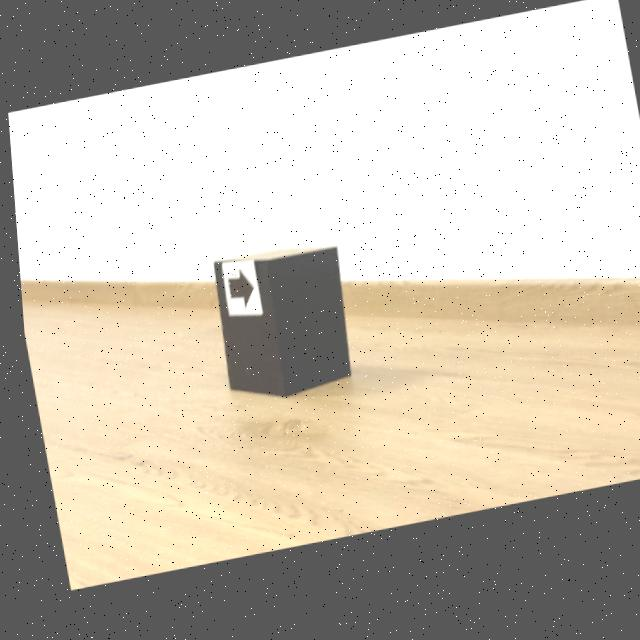RIGHT: (223, 273, 248, 310)
